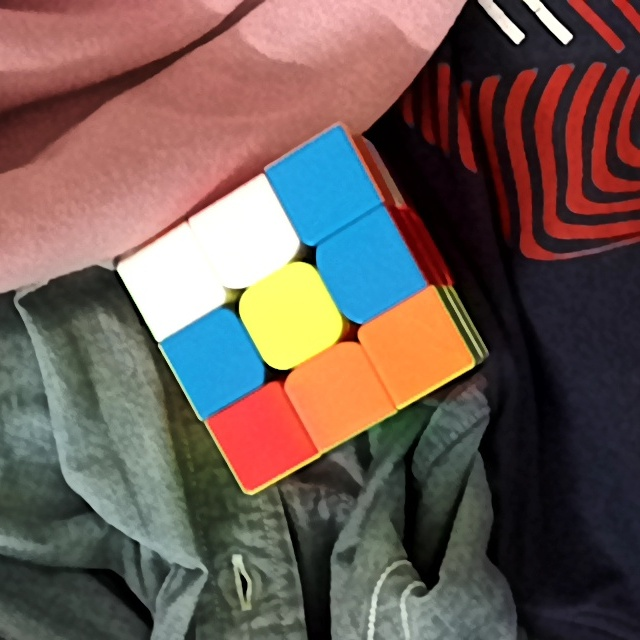tile: (335, 237, 398, 302), (389, 313, 450, 380), (216, 202, 276, 270), (293, 151, 352, 219), (257, 287, 321, 348), (308, 364, 368, 426), (185, 333, 243, 395), (144, 252, 200, 314), (235, 408, 289, 468)
